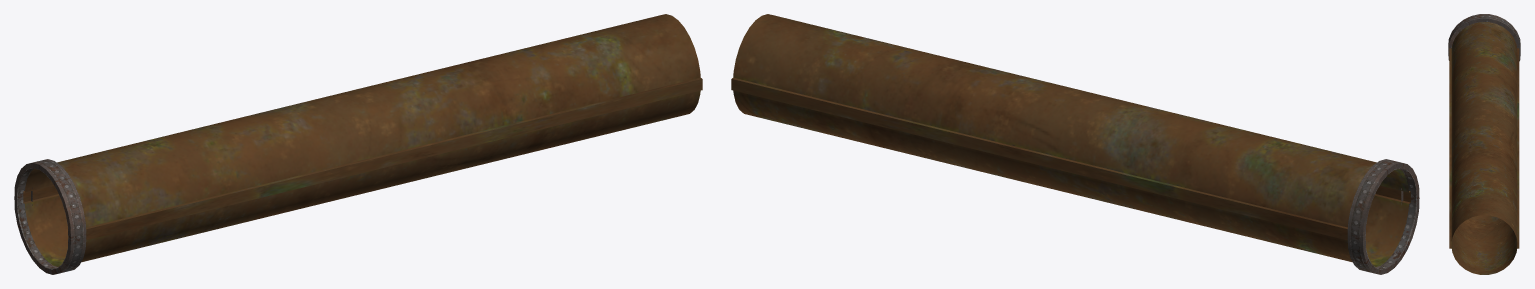
File: pipe_8x1.fbx
The picture shows the model from 3 angles, left to right: view 1: azimuth 30°, elevation 25°; view 2: azimuth 150°, elevation 25°; view 3: azimuth 270°, elevation 25°; orthographic projection. The views are drawn at different scales.
Visible parts, largest first — view 1: pipe_8x1; view 2: pipe_8x1; view 3: pipe_8x1.
Boxes of the visible parts, x1=… form: pipe_8x1: x1=14, y1=14, x2=702, y2=274; pipe_8x1: x1=731, y1=14, x2=1419, y2=274; pipe_8x1: x1=1448, y1=14, x2=1520, y2=274.
Size of the model in its own units: 810 by 126 by 125.
